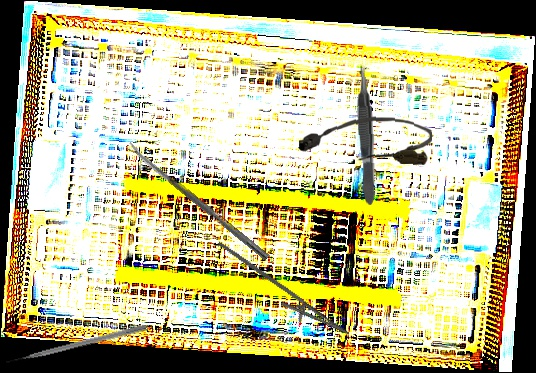Cannula: (297, 112, 434, 166)
Needle Holder: (203, 240, 359, 347)
Pusher: (5, 322, 147, 366)
Surgical Spoon: (125, 141, 271, 261)
Tissue Forceps: (355, 63, 377, 206)
